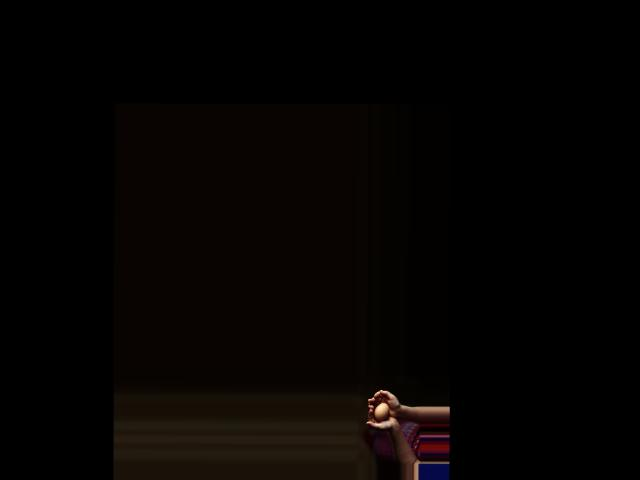egg: (373, 403, 388, 422)
